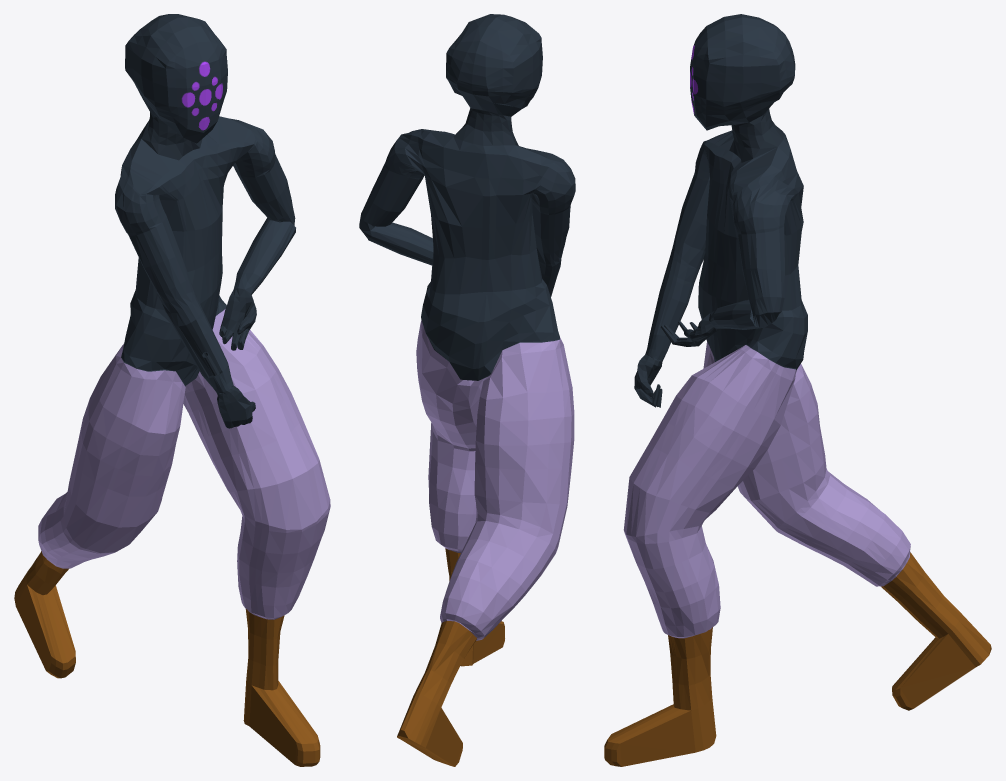
File: Oracle_Run_000025.obj
The picture shows the model from 3 angles, left to right: view 1: azimuth 30°, elevation 25°; view 2: azimuth 150°, elevation 25°; view 3: azimuth 270°, elevation 25°; orthographic projection. The views are drawn at different scales.
Parts seen in each view (by area): view 1: Cube; view 2: Cube; view 3: Cube.
Boxes of the visible parts, x1,y1,x2,y2 form: Cube: (14,14,330,766); Cube: (359,14,575,766); Cube: (604,14,991,766).
Size of the model in its own units: 1.19 by 3.78 by 1.86.
